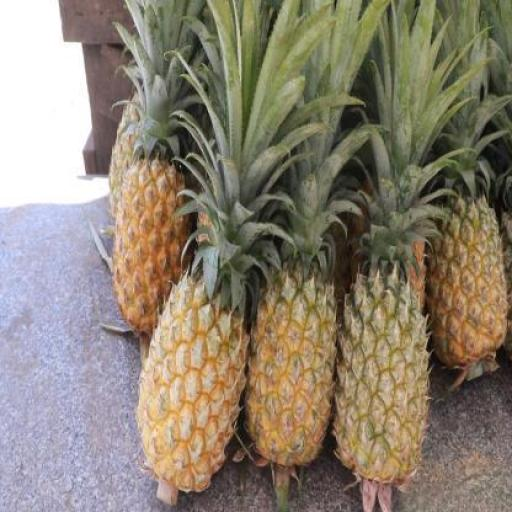------------------------------: (336, 272, 426, 478)
Pineapple - v8 v1: (134, 278, 240, 490), (245, 267, 337, 463), (114, 158, 188, 344), (432, 199, 506, 367)
